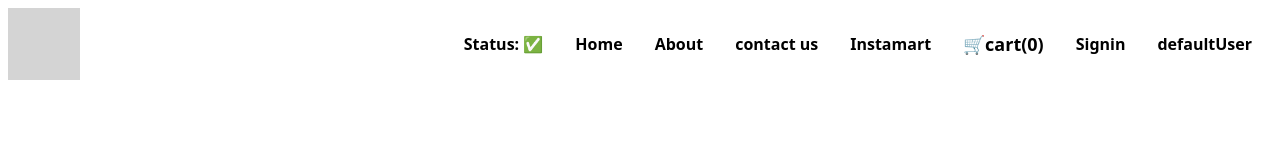
Test: should test Signin button functionality
The image size is (1269, 160).
What coordinates should you click on to do the following:
click the link "Signin"
I would click on:
 (1101, 44)
Its box is [1076,33,1125,55].
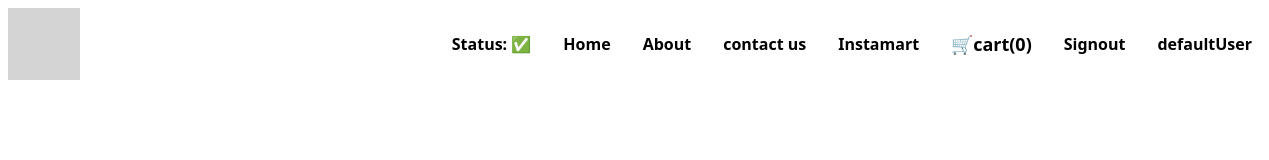
Check: the link "Signout" is shown, box [1064,33,1126,55]
